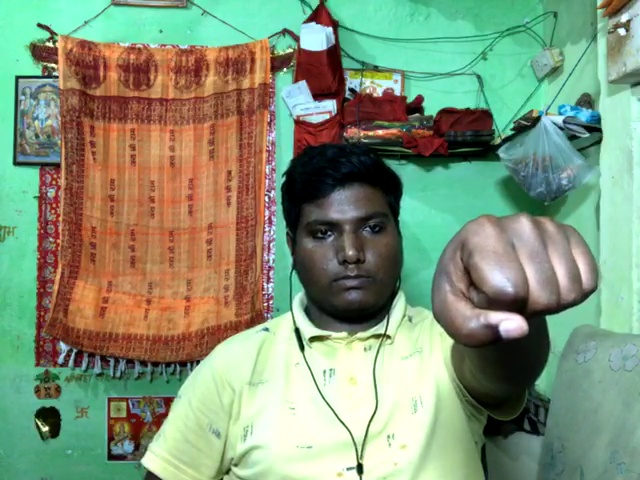Yes: (422, 195, 617, 359)
